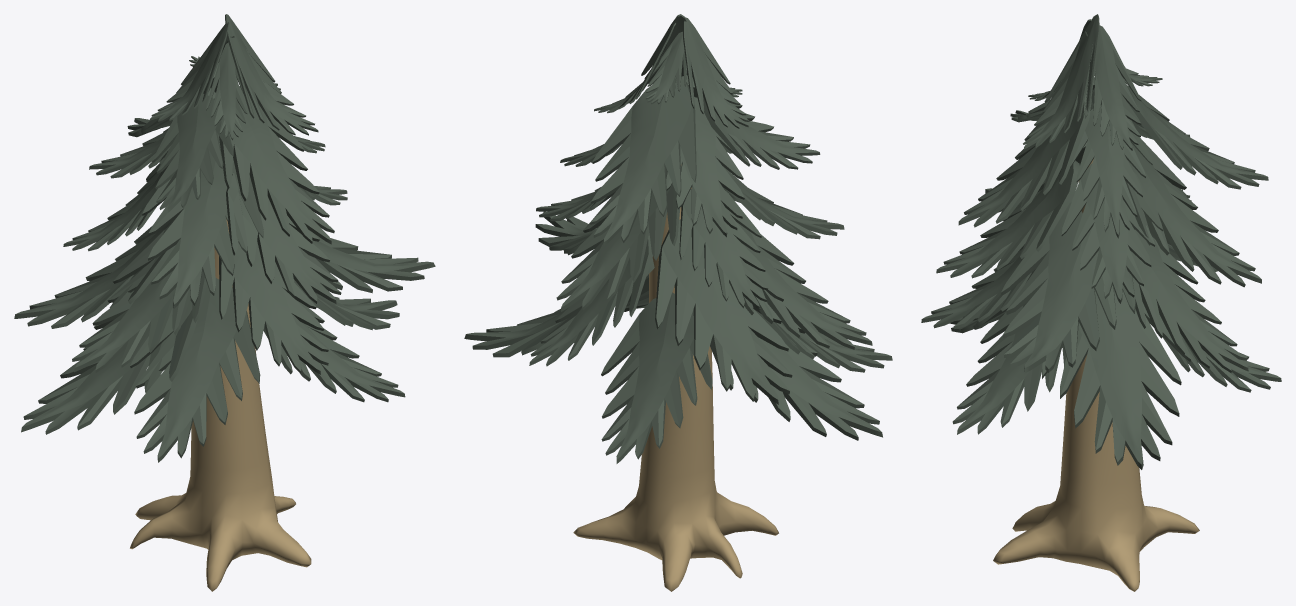
Rendered from Pinetree_02 (1).fbx.
3 views of the same model, side by side, from view 1: azimuth 30°, elevation 25°; view 2: azimuth 150°, elevation 25°; view 3: azimuth 270°, elevation 25° (orthographic).
Parts seen in each view (by area): view 1: Tree_geo_02; view 2: Tree_geo_02; view 3: Tree_geo_02.
Boxes of the visible parts, <box> form: Tree_geo_02: <box>14,14,435,591</box>; Tree_geo_02: <box>464,14,892,591</box>; Tree_geo_02: <box>921,14,1281,591</box>.
Bounding box in the file's own units: 4.37 × 5.63 × 3.38.
